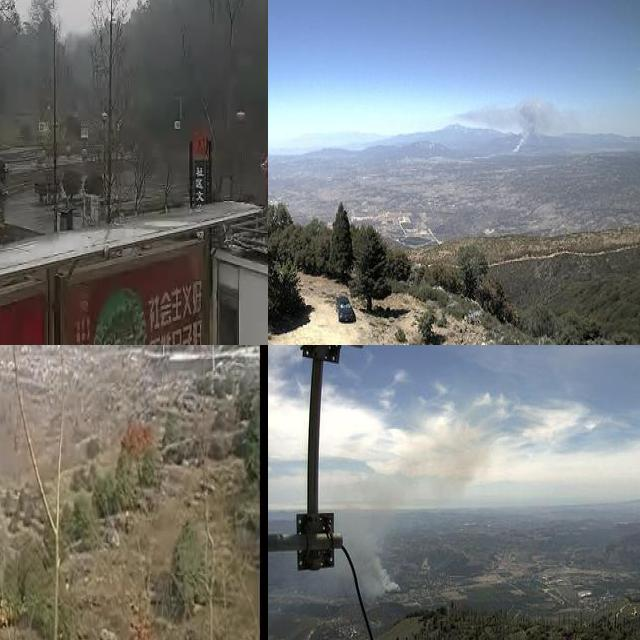smoke: (334, 418, 484, 604), (455, 97, 579, 152)
